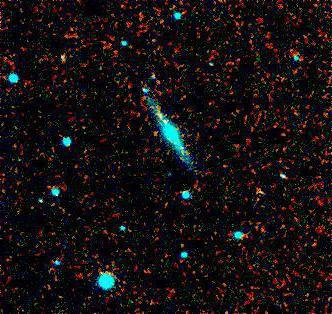star: (143, 97, 173, 127)
